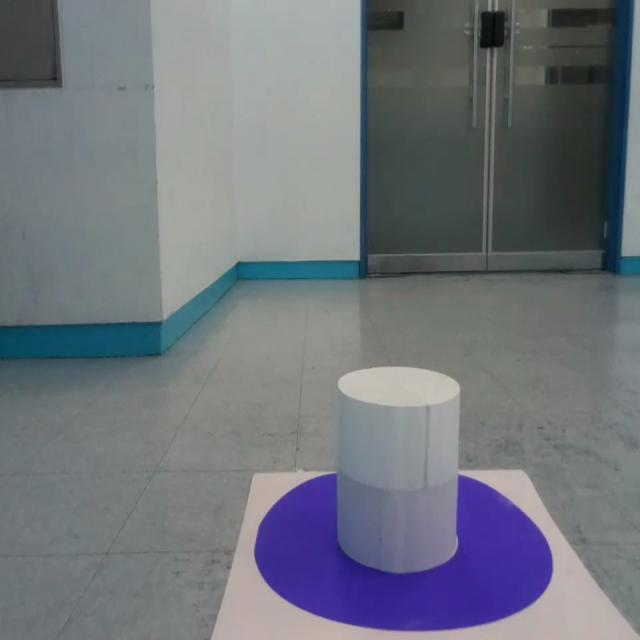cylinder: (335, 366, 462, 573)
